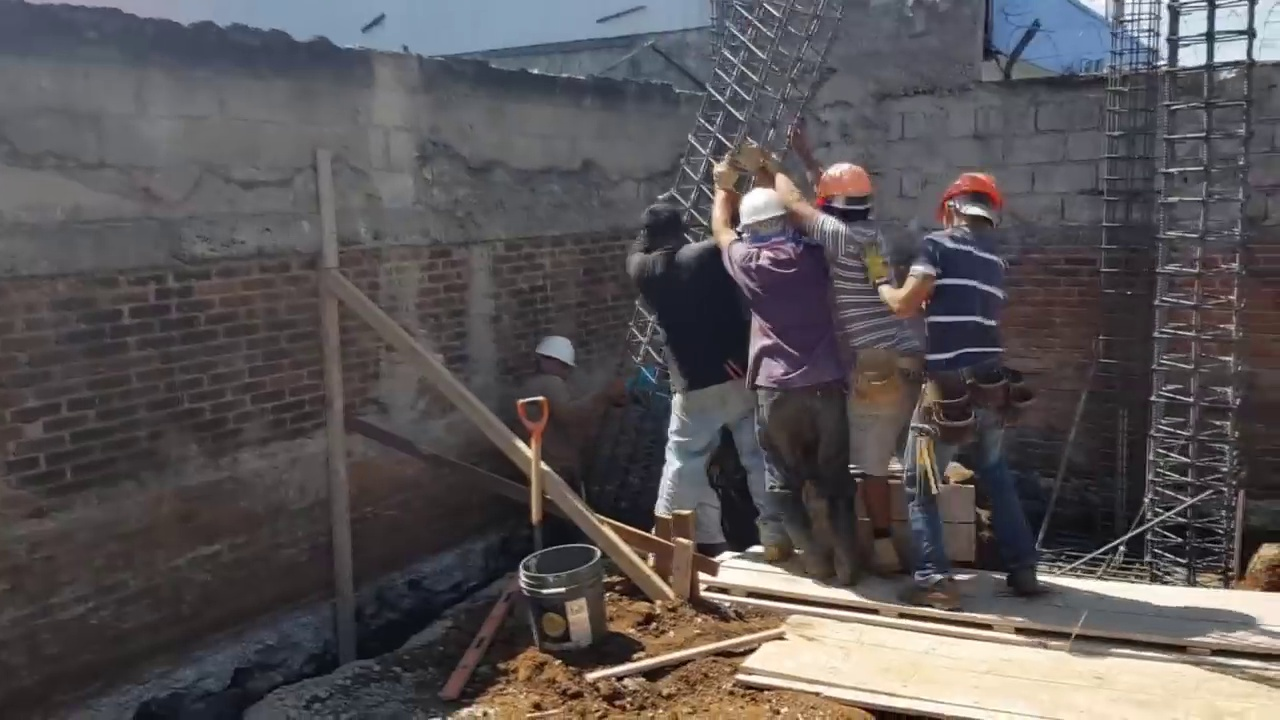helmet: (944, 167, 1010, 233), (814, 160, 880, 208), (740, 185, 788, 226), (532, 335, 579, 369)
helmet-off: (639, 195, 680, 246)
helmet-on: (933, 167, 1009, 242), (814, 161, 880, 229), (740, 185, 789, 246), (525, 332, 577, 387)
person: (877, 167, 1032, 589), (712, 161, 853, 561), (785, 166, 922, 574), (630, 197, 754, 576), (511, 334, 585, 511)
